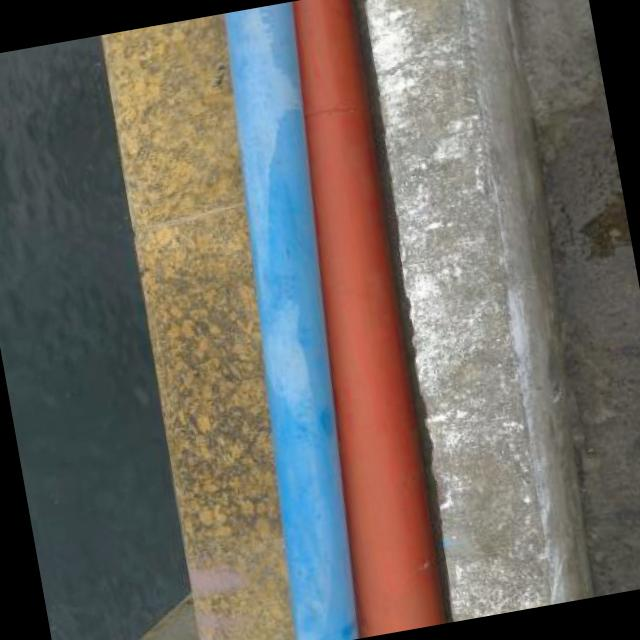gas: (291, 0, 445, 638), (221, 1, 357, 640)
